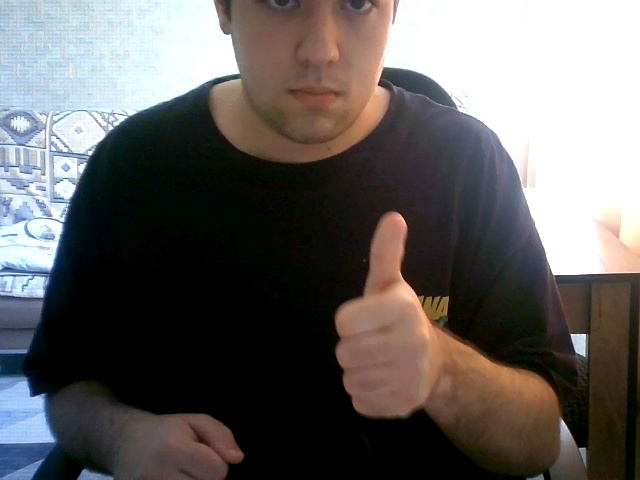good: (316, 209, 459, 428)
